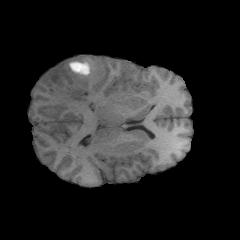glioma: (45, 57, 105, 103)
